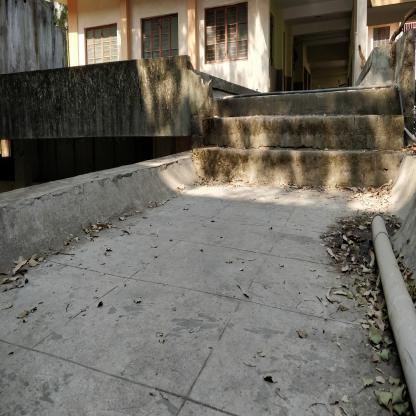stairs: (222, 85, 396, 193)
